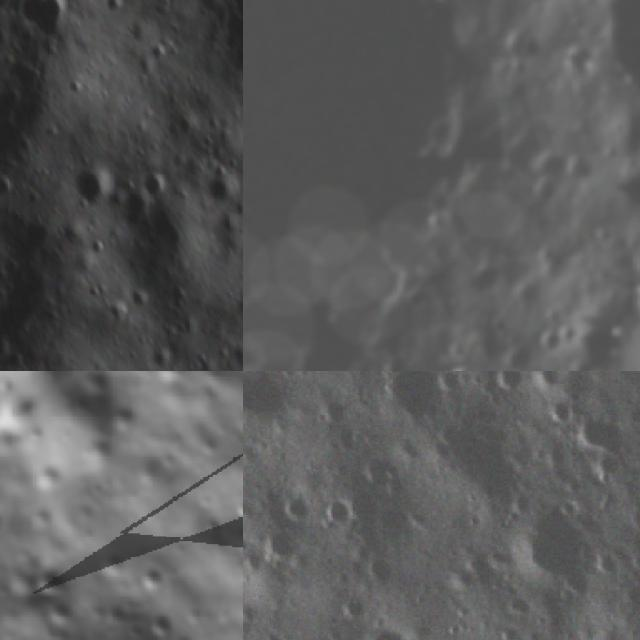crater: (243, 0, 534, 362), (498, 511, 598, 586), (22, 552, 83, 610), (568, 406, 626, 463), (14, 0, 74, 45), (70, 164, 117, 216), (0, 395, 52, 438), (198, 169, 243, 208), (135, 166, 172, 204), (541, 322, 579, 358), (530, 180, 566, 212), (225, 495, 243, 552), (0, 496, 14, 551), (354, 629, 416, 640), (630, 276, 640, 333)
